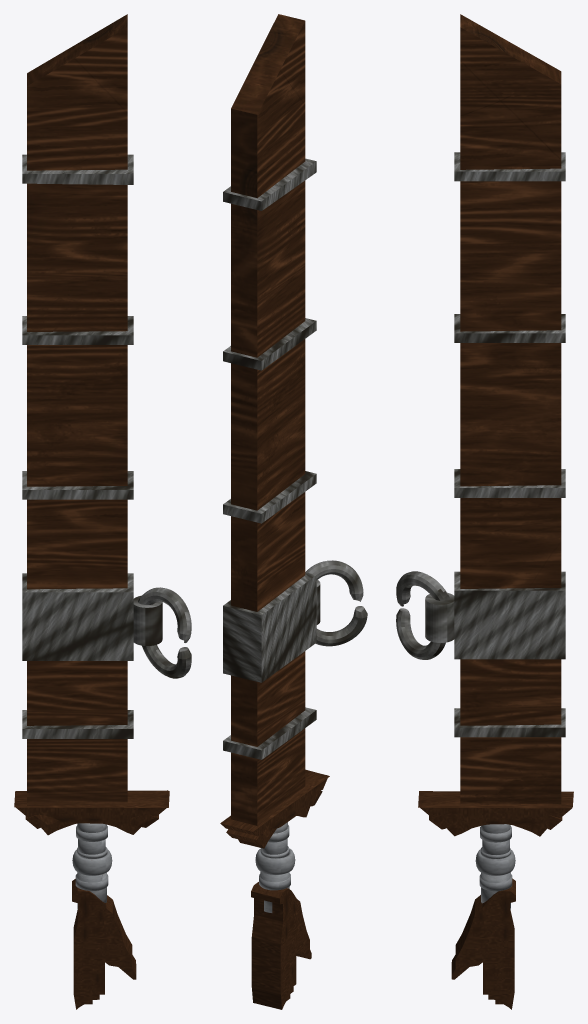
Rendered from SwordSheathe.fbx.
3 renders of one model, left to right at view 1: azimuth 90°, elevation 25°; view 2: azimuth 150°, elevation 25°; view 3: azimuth 270°, elevation 25°, orthographic.
Parts seen in each view (by area): view 1: rope_Plane.014, Plane.006, Plane.001_Plane.016, Plane.004_Plane.002; view 2: rope_Plane.014, Plane.006, Plane.001_Plane.016, Plane.004_Plane.002; view 3: rope_Plane.014, Plane.006, Plane.001_Plane.016, Plane.004_Plane.002.
Part boxes in pixels (left/top/right/bottom): rope_Plane.014: left=22, top=14, right=191, bottom=805; Plane.006: left=72, top=879, right=136, bottom=1009; Plane.001_Plane.016: left=14, top=790, right=169, bottom=835; Plane.004_Plane.002: left=72, top=823, right=112, bottom=909; rope_Plane.014: left=223, top=14, right=367, bottom=826; Plane.006: left=251, top=882, right=311, bottom=1009; Plane.001_Plane.016: left=220, top=769, right=329, bottom=848; Plane.004_Plane.002: left=255, top=822, right=295, bottom=912; rope_Plane.014: left=396, top=14, right=565, bottom=805; Plane.006: left=451, top=878, right=515, bottom=1009; Plane.001_Plane.016: left=418, top=791, right=573, bottom=836; Plane.004_Plane.002: left=475, top=824, right=515, bottom=909.
Size of the model in its own units: 711 by 10326 by 1693.
